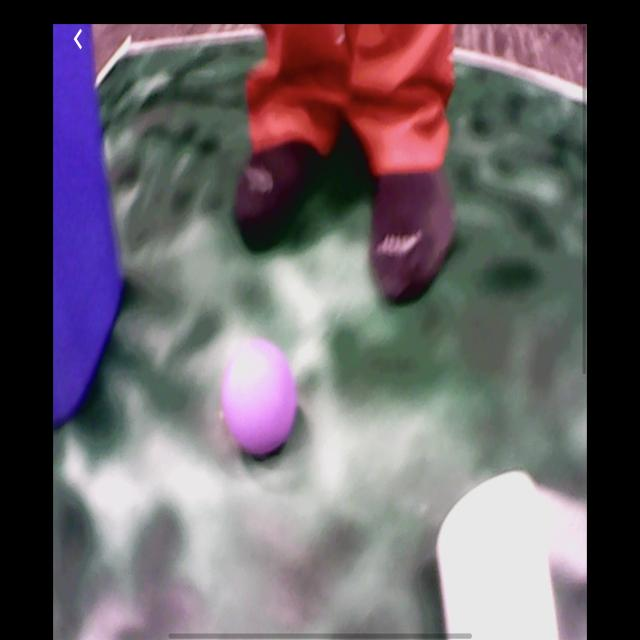ball: (223, 341, 297, 457)
